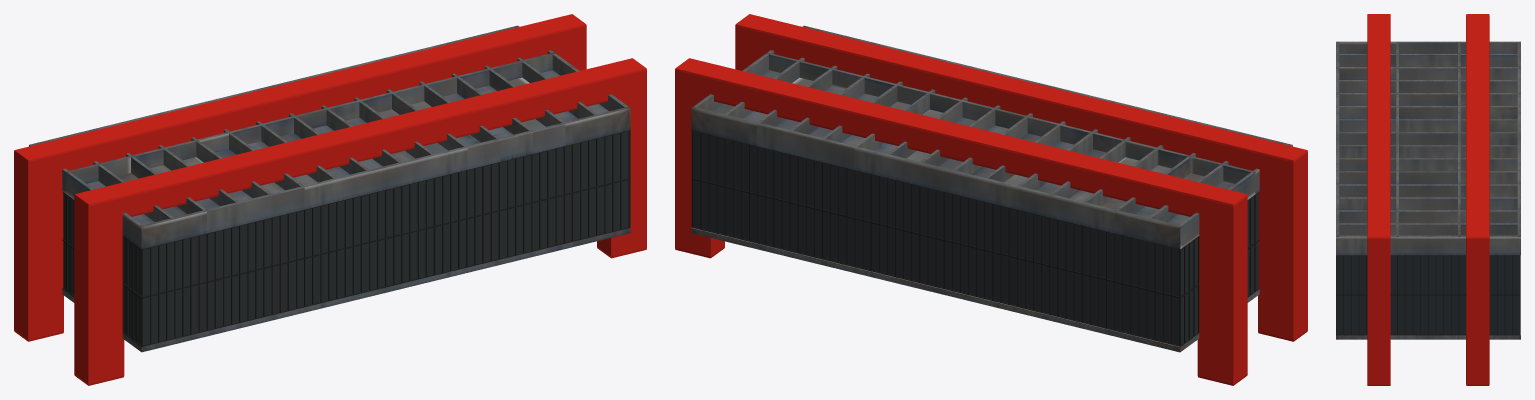
Rendered from masp.glb.
3 views of the same model, side by side, from view 1: azimuth 30°, elevation 25°; view 2: azimuth 150°, elevation 25°; view 3: azimuth 270°, elevation 25° (orthographic). The views are drawn at different scales.
Visible parts, largest first — view 1: Colunas, Janelas, Teto, Teto Inferior; view 2: Colunas, Janelas, Teto, Teto Inferior; view 3: Teto, Colunas, Janelas, Teto Inferior.
Boxes of the visible parts, x1,y1,x2,y2 form: Colunas: [14, 14, 646, 385]; Janelas: [62, 130, 630, 346]; Teto: [29, 25, 630, 249]; Teto Inferior: [62, 228, 630, 352]; Colunas: [675, 14, 1307, 385]; Janelas: [691, 130, 1259, 346]; Teto: [691, 25, 1292, 249]; Teto Inferior: [691, 227, 1259, 352]; Teto: [1336, 41, 1520, 255]; Colunas: [1367, 14, 1489, 385]; Janelas: [1336, 255, 1520, 335]; Teto Inferior: [1336, 255, 1520, 339].
Size of the model in its own units: 1501 by 466 by 524.
Materials: 4 (1 with a texture image).
